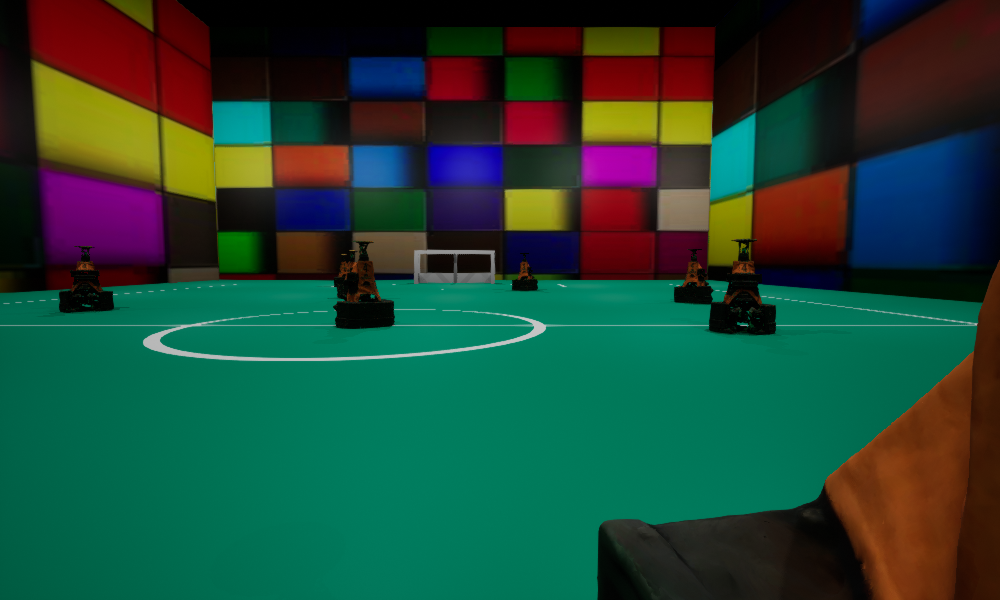0 orange robot TechUnited: (597, 260, 999, 599), (709, 239, 775, 333), (333, 241, 394, 328), (59, 246, 113, 312), (674, 249, 713, 303), (337, 250, 370, 298), (512, 253, 537, 290), (334, 254, 346, 286)
